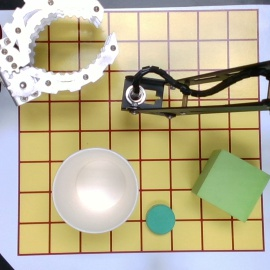cup: (52, 147, 139, 235)
green: (147, 205, 175, 234)
